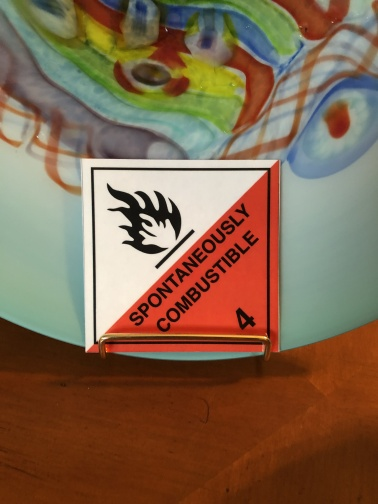SpontaneouslyCombustible: (81, 158, 279, 355)
